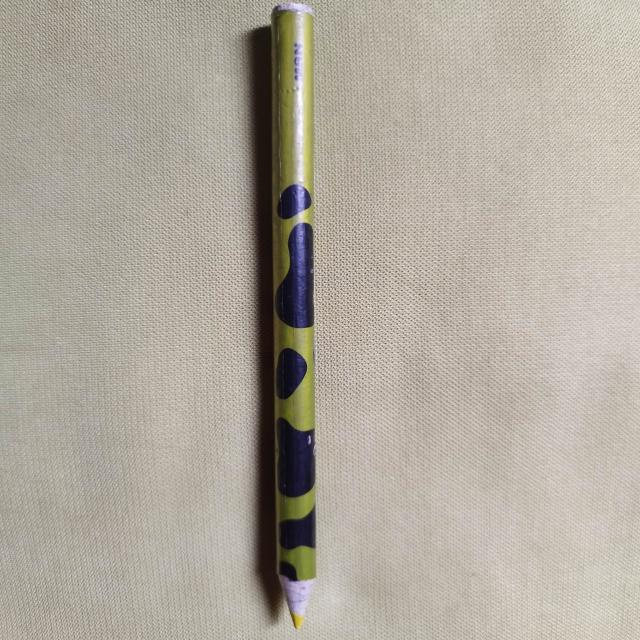pencil: (270, 2, 316, 628)
